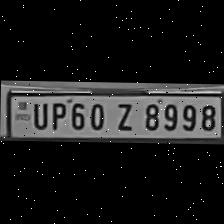0: (84, 99, 107, 130)
6: (66, 99, 86, 130)
8: (138, 99, 160, 130), (196, 101, 216, 130)
9: (159, 99, 179, 130), (177, 101, 197, 130)
P: (47, 99, 67, 130)
U: (28, 99, 48, 128)
Z: (110, 99, 136, 131)
